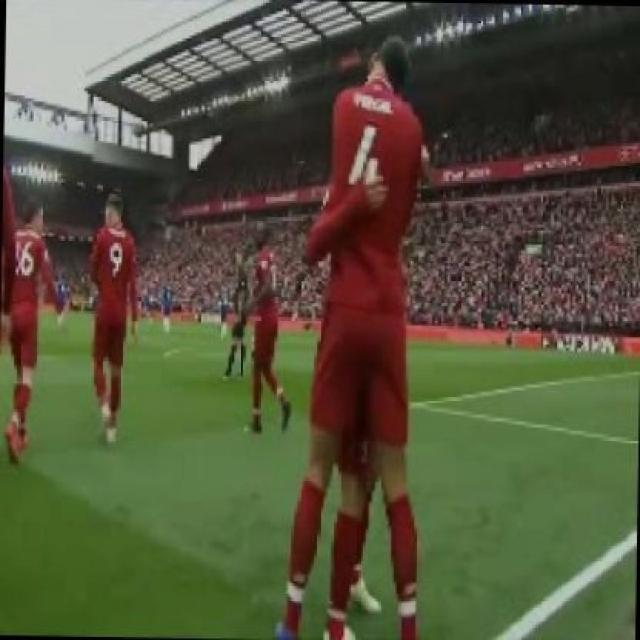non-fight: (289, 29, 437, 634), (83, 188, 146, 444), (233, 233, 289, 434)
